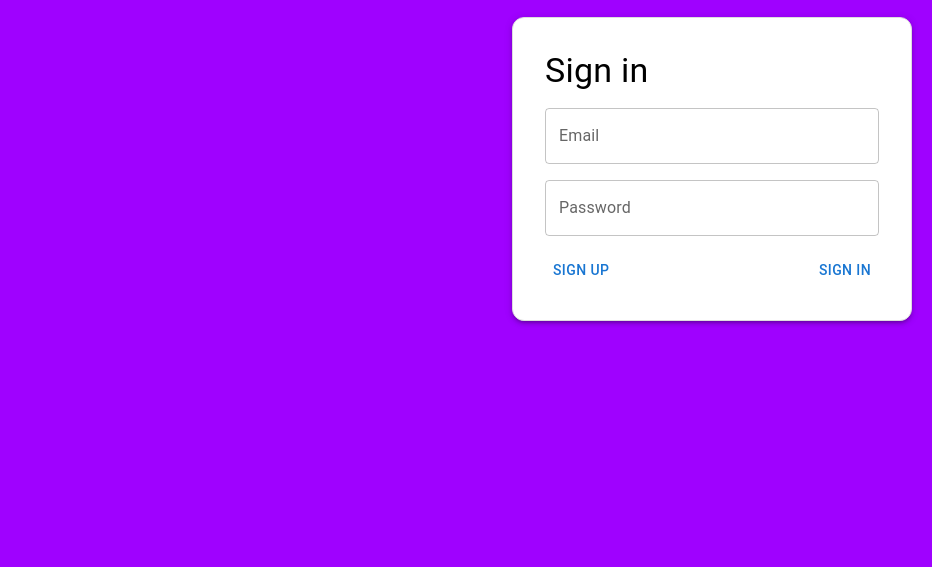
Test: LoginForm Component › displays error snackbar if fields are empty upon submission
This screenshot has width=932, height=567.
Click the button "Sign in" at (845, 270), box [811,252,879,288]
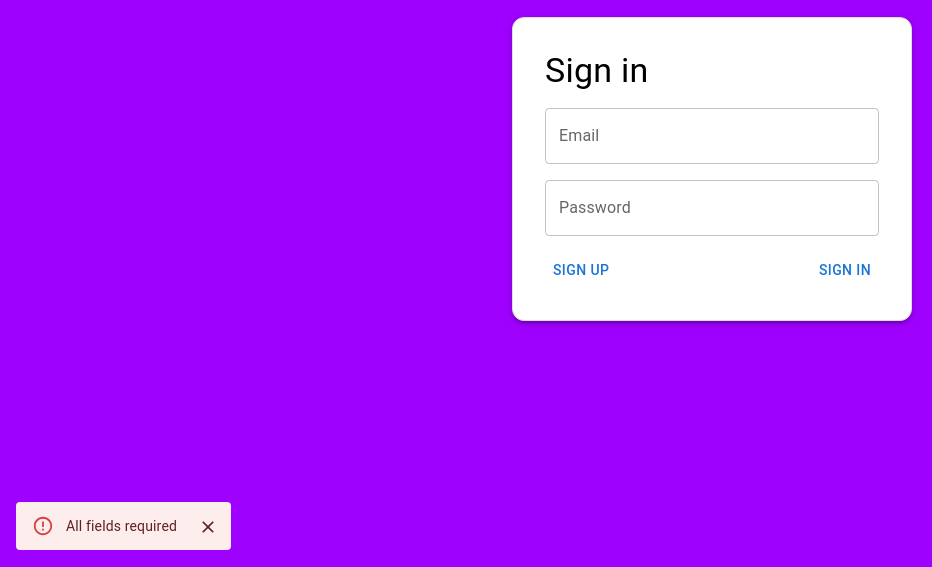
Expected: the text "All fields required" is shown, [66,518,177,534]
